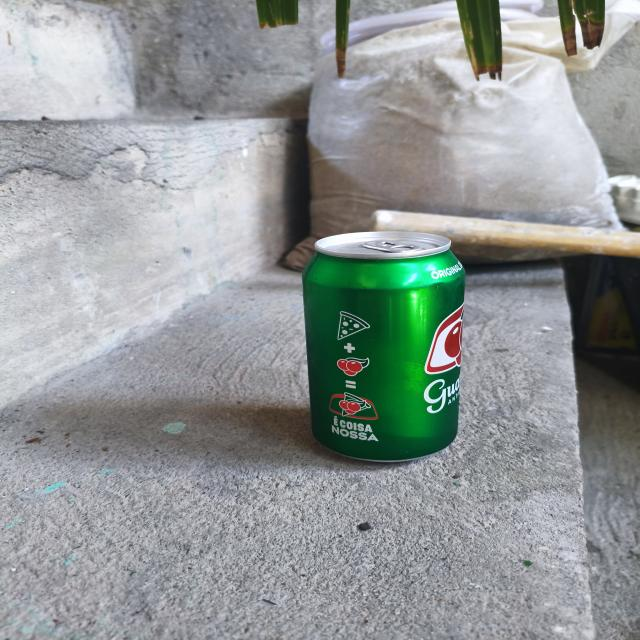Guarana: (282, 214, 488, 472)
